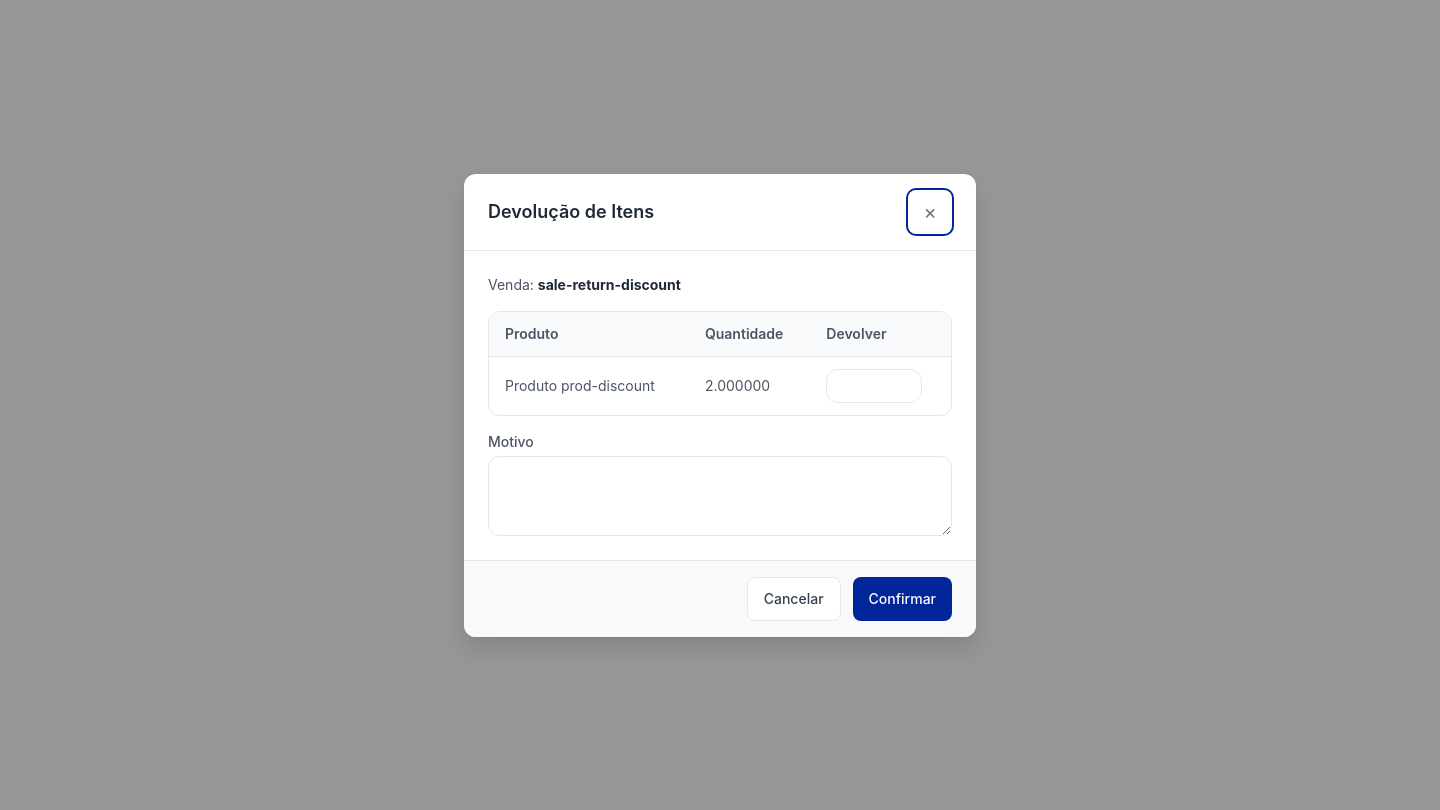
Scenario: ReturnDialog › uses discounted line total proportionally for a partial return
expect the text "Produto prod-discount" is shown: met, box [489,356,689,414]
Step 1. Type "1" into the number field with test id "return-qty-prod-discount" → (874, 386), box [826,368,922,402]
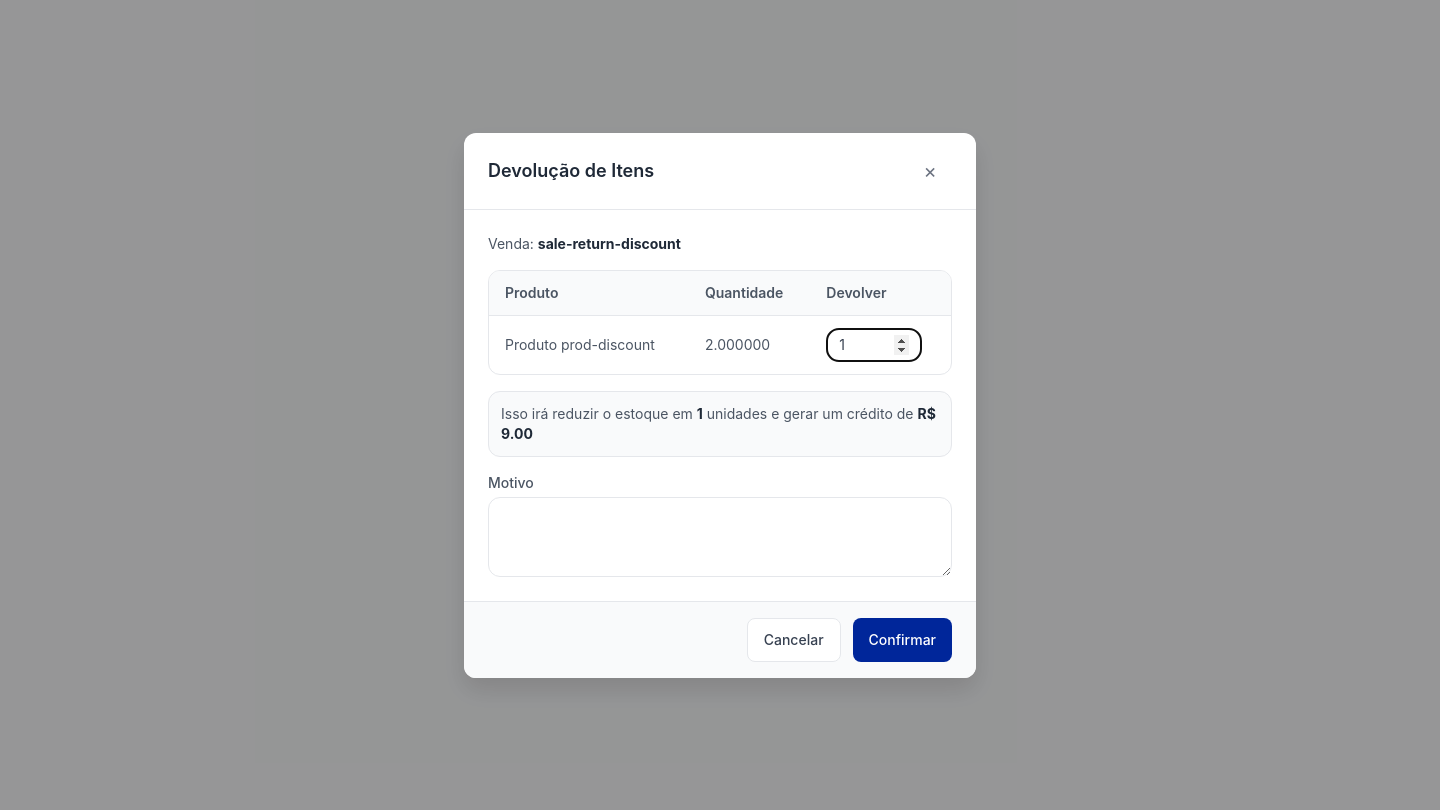
expect the element with test id "return-summary" shows "R$ 9.00": met, box [488,390,952,456]
